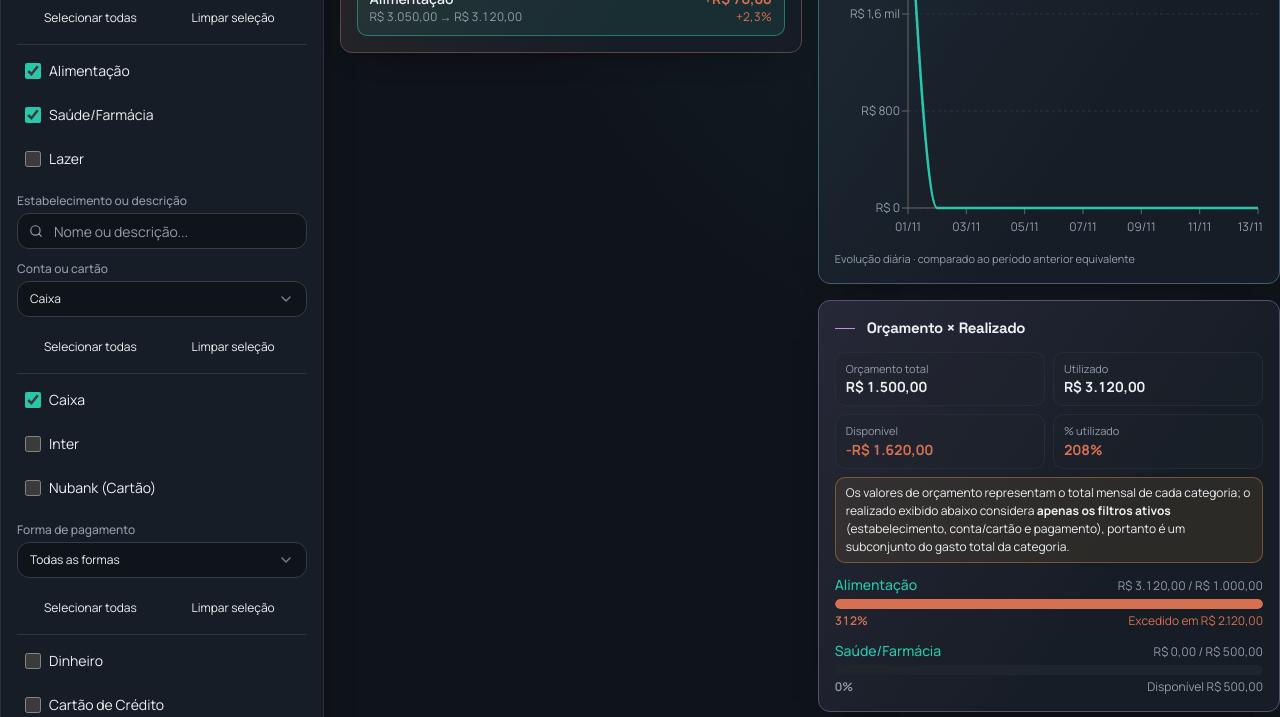
Scenario: ExpenseAnalytics multiple filters › preserves all selections when changing the period and moving to the previous window
Earlier steps of the test are not shown.
(page scrolled)
Click the checkbox labelled "Nubank (Cartão)". click: (33, 488)
box: [25,480,41,496]
(page scrolled)
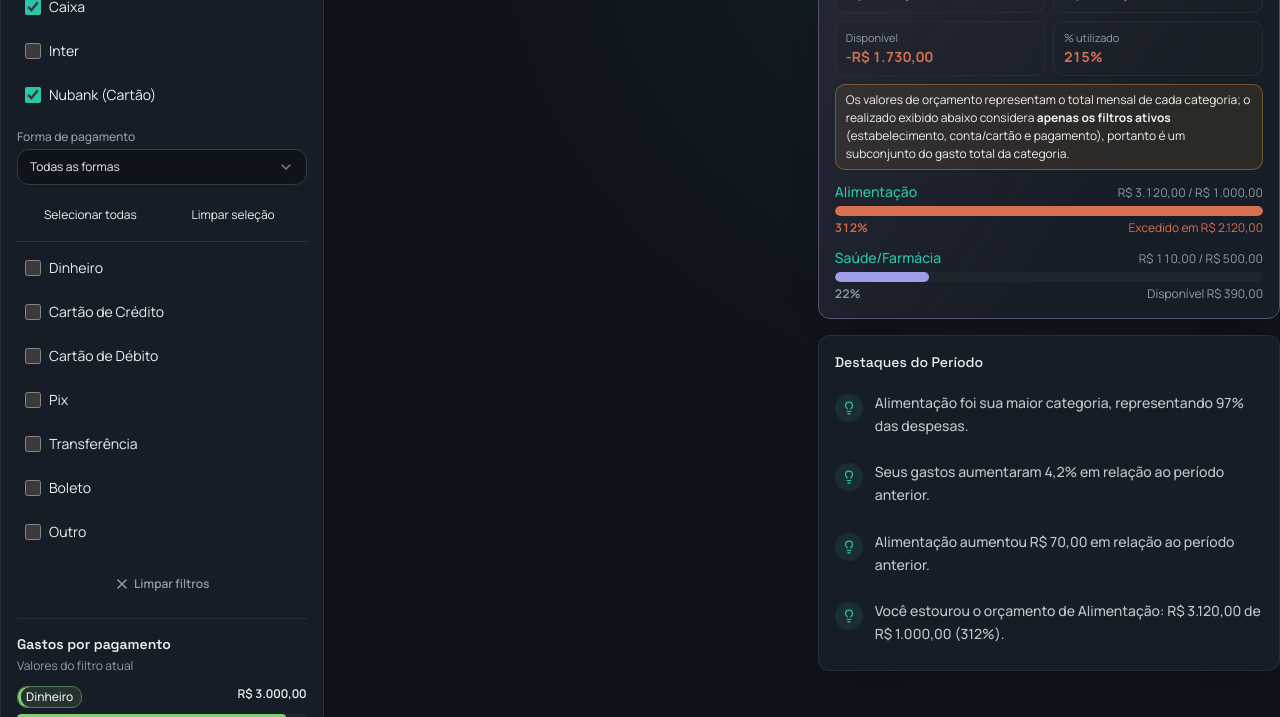
Click the checkbox labelled "Pix". click: (33, 400)
box: [25,392,41,408]
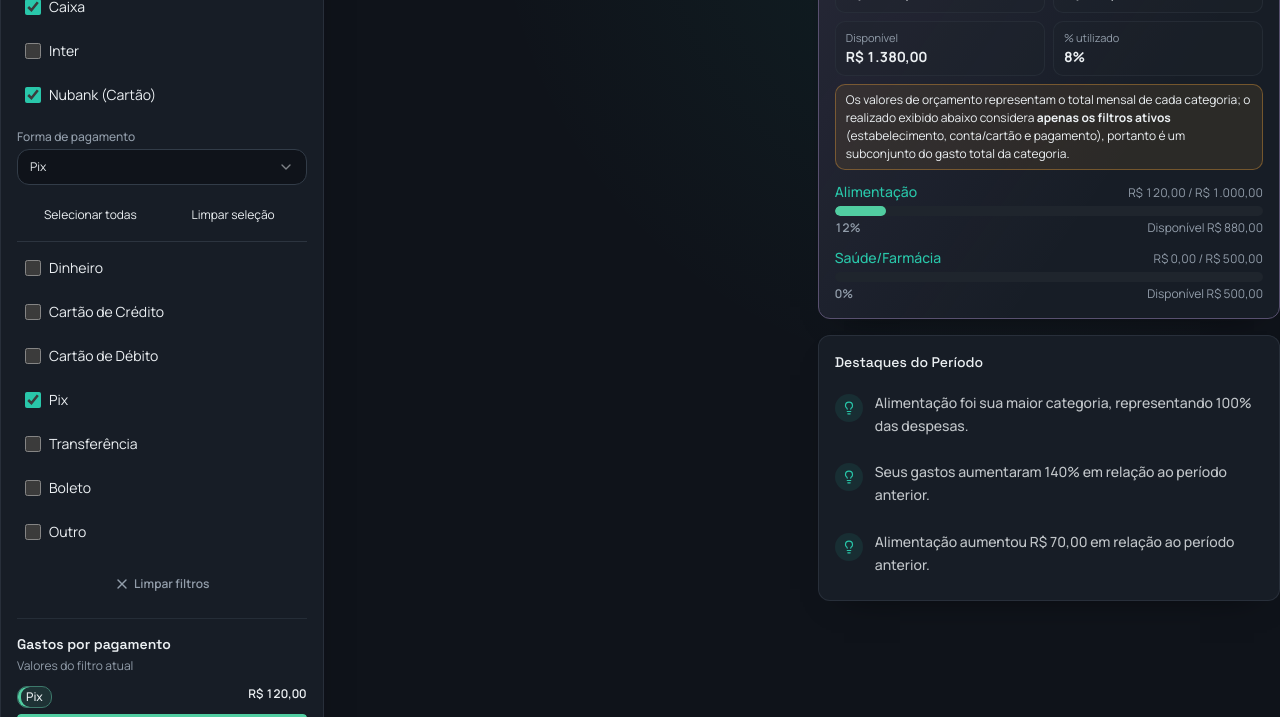
Click the checkbox labelled "Cartão de Crédito". click: (33, 312)
box: [25,304,41,320]
(page scrolled)
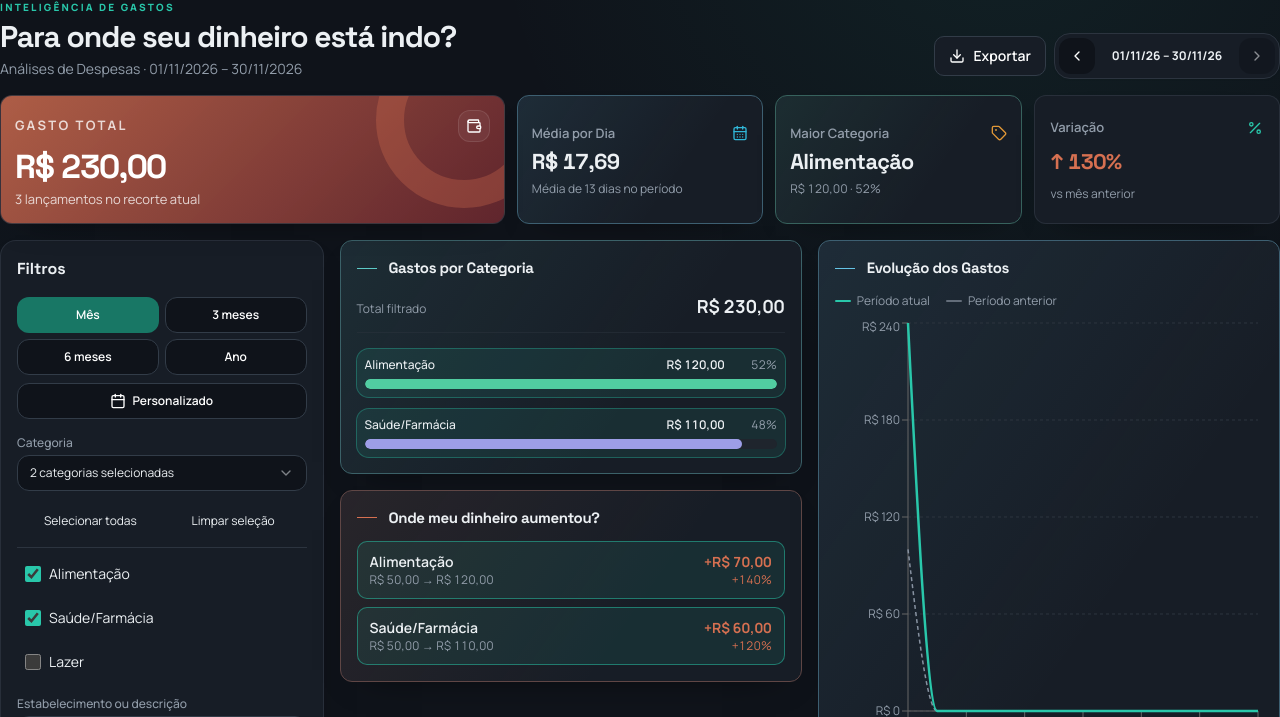
Click the button "3 meses". click: (236, 315)
box: [165,297,307,333]
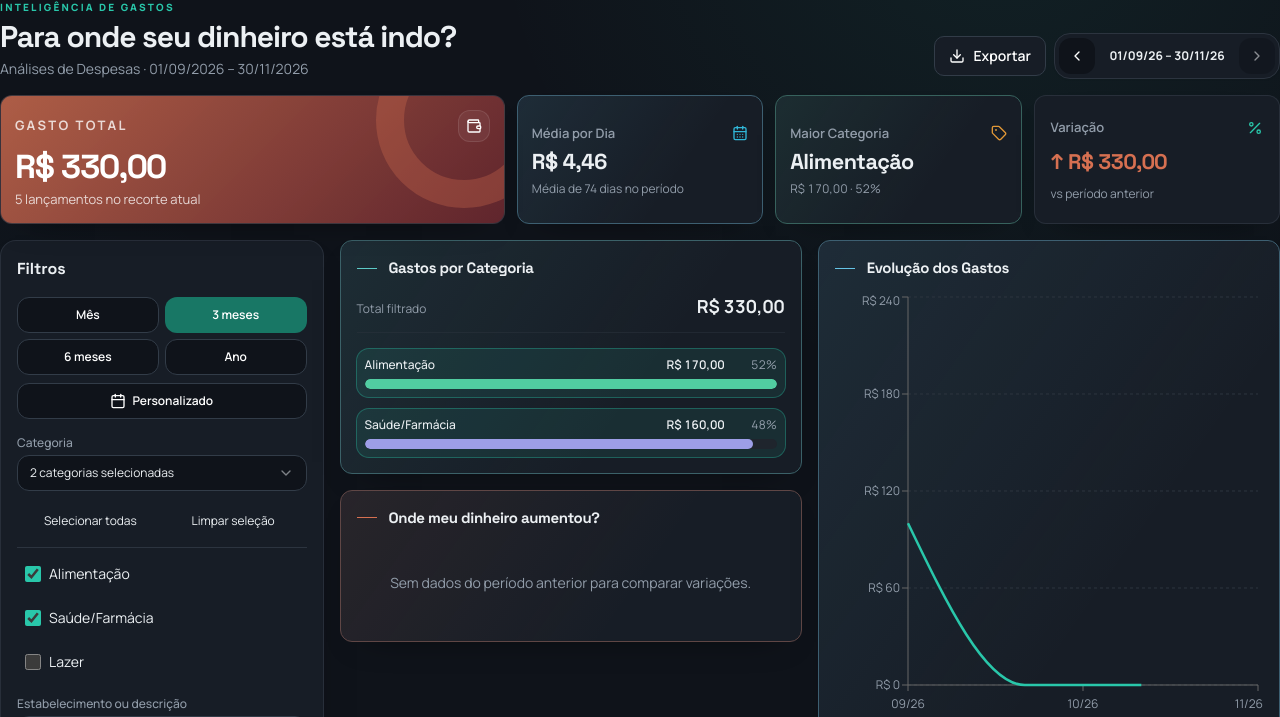
Click the button "Mês". click: (88, 315)
box: [17,297,159,333]
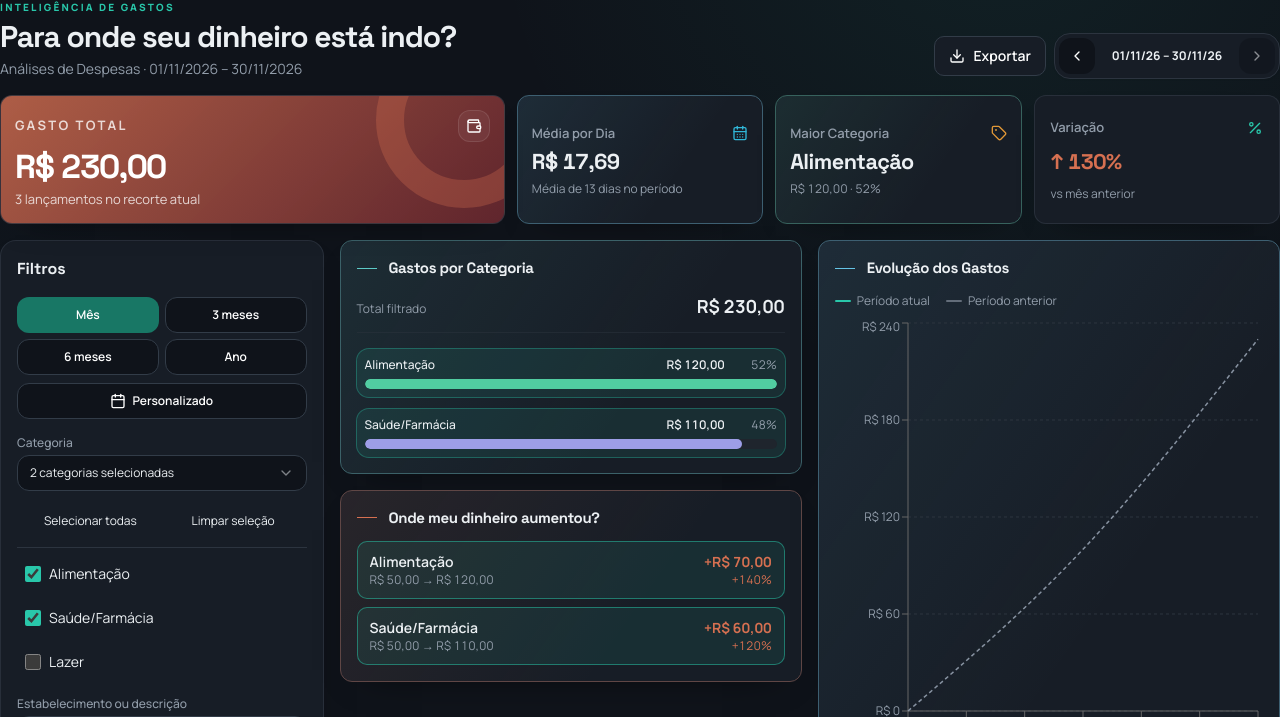
Click the button named "Período anterior". click: (1077, 56)
box: [1059,38,1095,74]
(page scrolled)
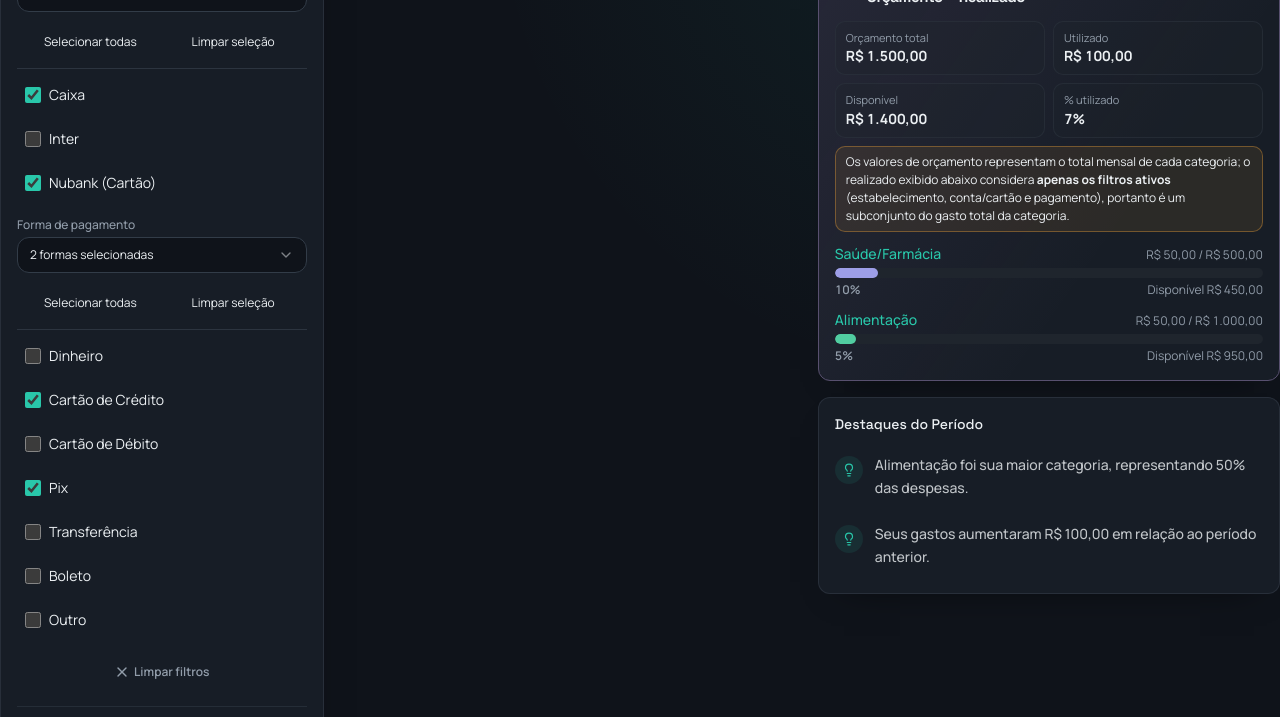
Result: the checkbox labelled "Caixa" is checked at [25,87,41,103]
Result: the checkbox labelled "Nubank (Cartão)" is checked at [25,175,41,191]
Result: the checkbox labelled "Pix" is checked at [25,480,41,496]
